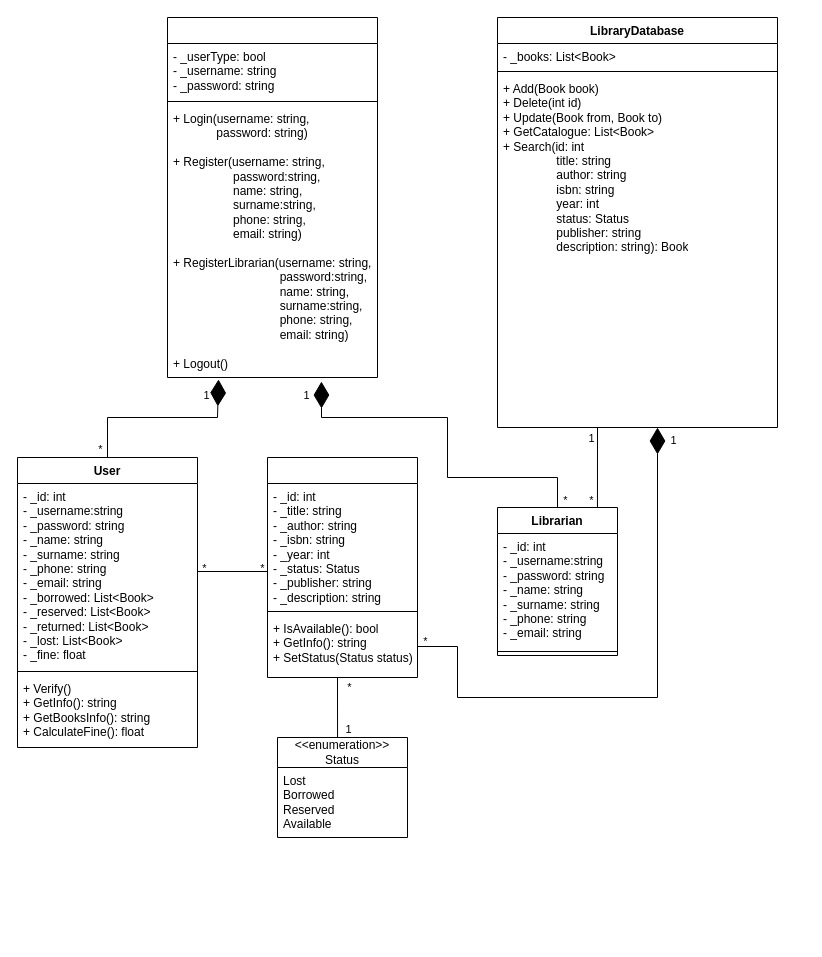
This 822x957 diagram has some shape labels left out. Each missing label, with the box of its shape:
Book: (266, 456, 418, 678)
ManagementSystem: (166, 16, 378, 378)
